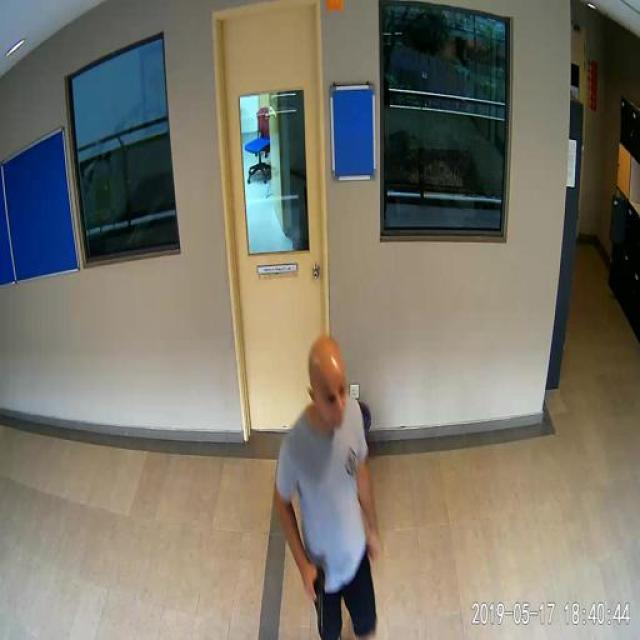Gun: (296, 536, 336, 632)
